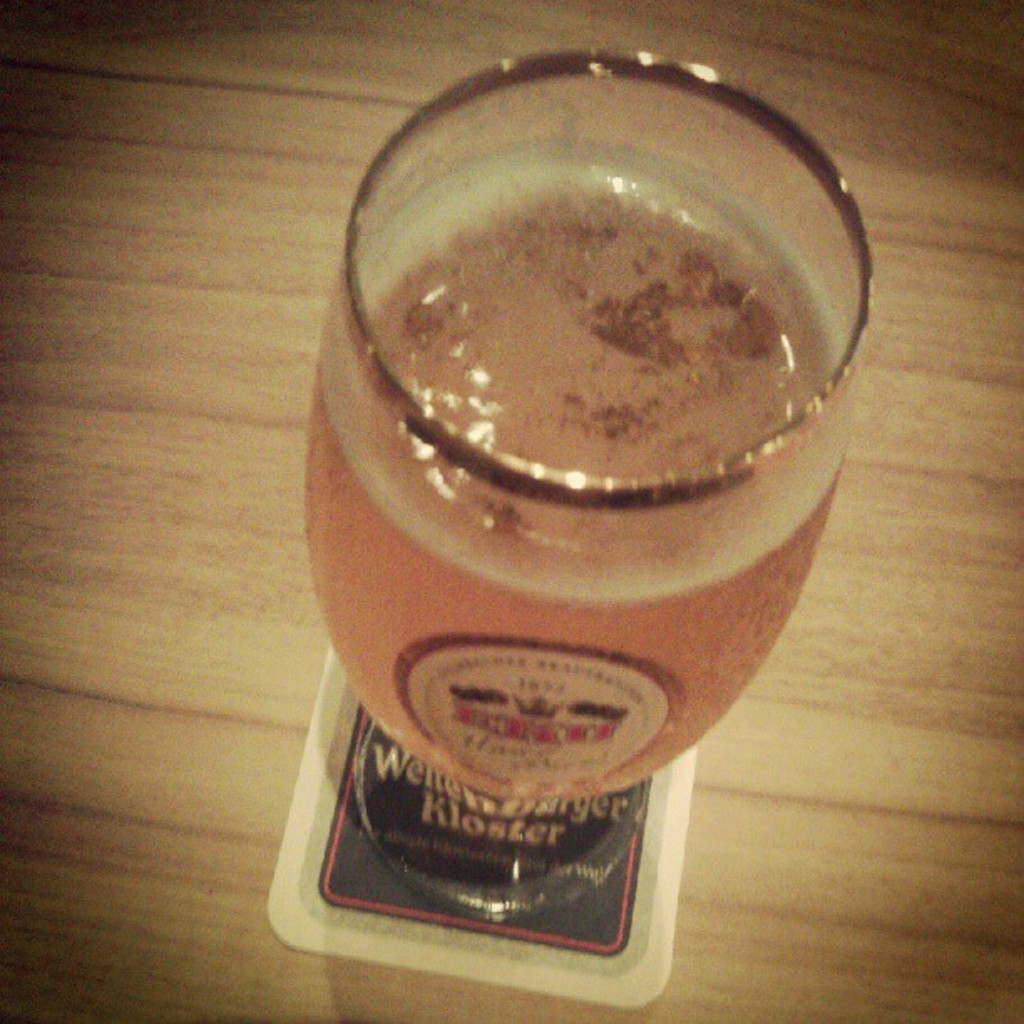Beer: (259, 35, 901, 1010)
